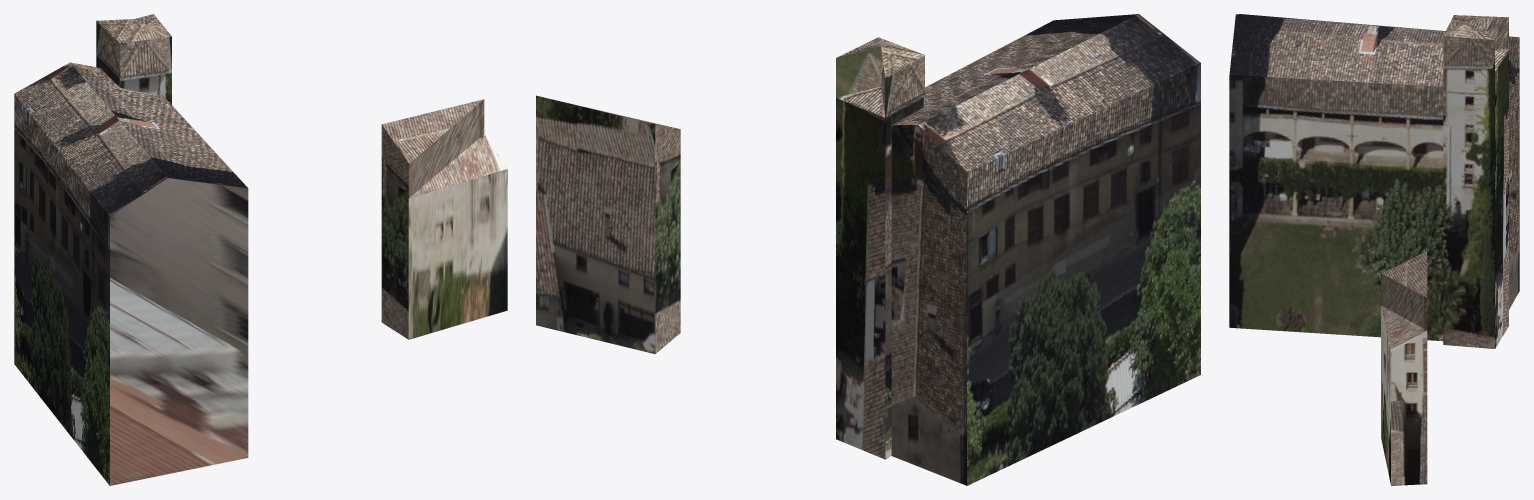
3 views of the same model, side by side, from view 1: azimuth 30°, elevation 25°; view 2: azimuth 150°, elevation 25°; view 3: azimuth 270°, elevation 25° (orthographic). The views are drawn at different scales.
Parts seen in each view (by area): view 1: Z_UP; view 2: Z_UP; view 3: Z_UP.
Part boxes in pixels (box(x1,y1,x2,y2)): Z_UP: box(14, 14, 507, 485); Z_UP: box(536, 14, 1200, 485); Z_UP: box(1229, 14, 1519, 485).
Bounding box in the file's own units: 39.82 × 26.93 × 22.28.
Materials: 2 (1 with a texture image).
